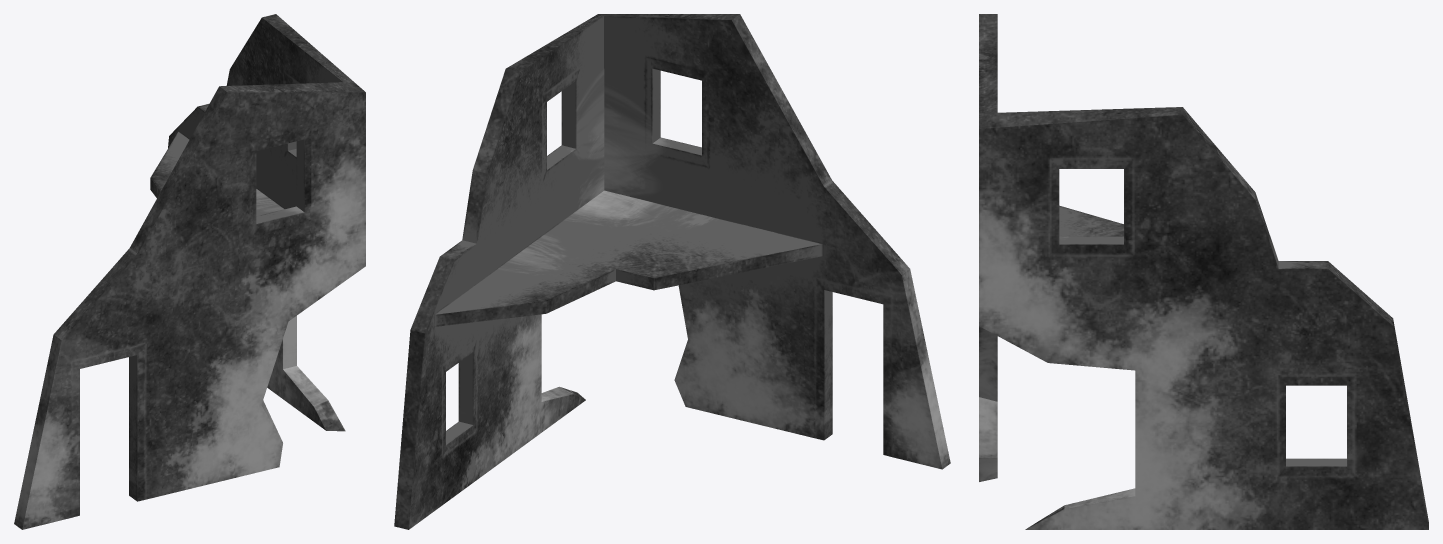
File: metallic.glb
3 views of the same model, side by side, from view 1: azimuth 30°, elevation 25°; view 2: azimuth 150°, elevation 25°; view 3: azimuth 270°, elevation 25° (orthographic). The views are drawn at different scales.
Visible parts, largest first — view 1: Cube.003_Cube.003_1001.005; view 2: Cube.003_Cube.003_1001.005; view 3: Cube.003_Cube.003_1001.005.
Part boxes in pixels (x1,y1,x2,y2): Cube.003_Cube.003_1001.005: [14, 14, 365, 529]; Cube.003_Cube.003_1001.005: [394, 14, 950, 529]; Cube.003_Cube.003_1001.005: [979, 14, 1428, 529].
Bounding box in the file's own units: 4.32 × 4.66 × 4.32.
Materials: 1 (1 with a texture image).
